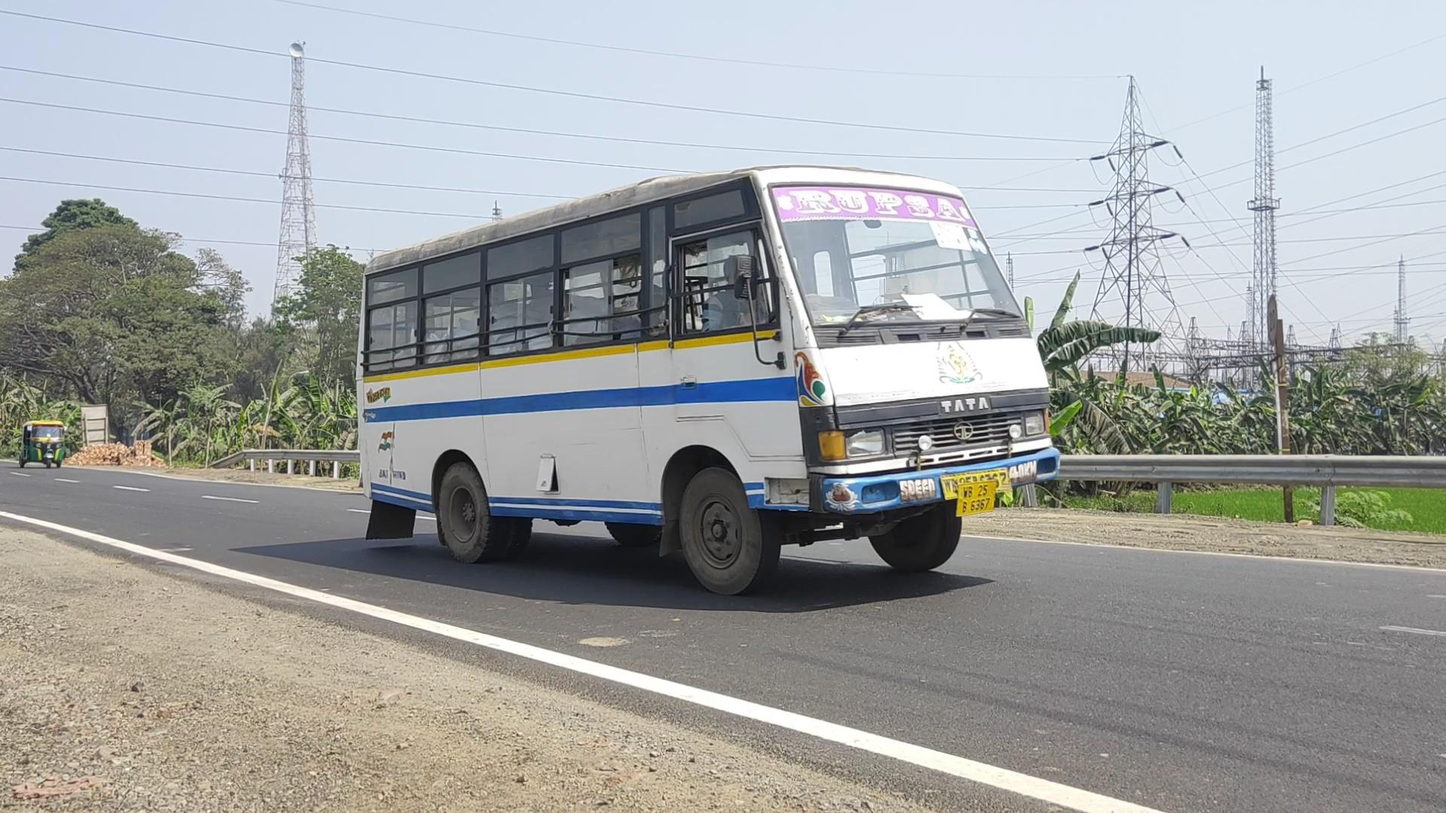Auto: (19, 420, 64, 469)
Bus: (355, 164, 1061, 604)
